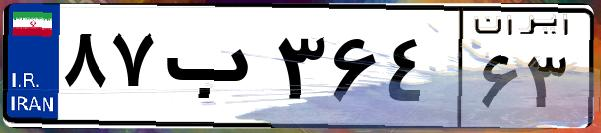3: (270, 28, 330, 110), (525, 38, 570, 115)
4: (385, 28, 445, 110)
6: (330, 28, 385, 110), (475, 38, 525, 113)
7: (110, 28, 158, 98)
8: (57, 26, 110, 100)
ب: (158, 20, 270, 120)
